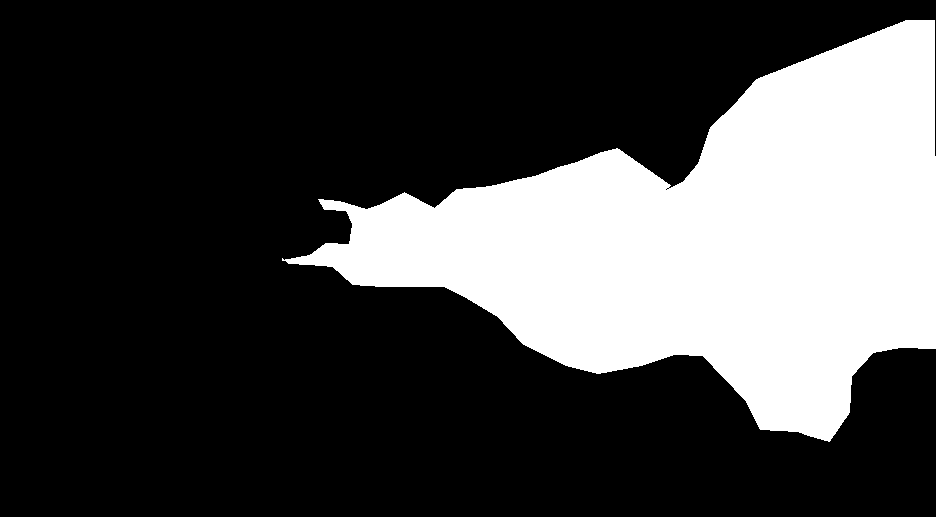Fire: (300, 139, 936, 417)
